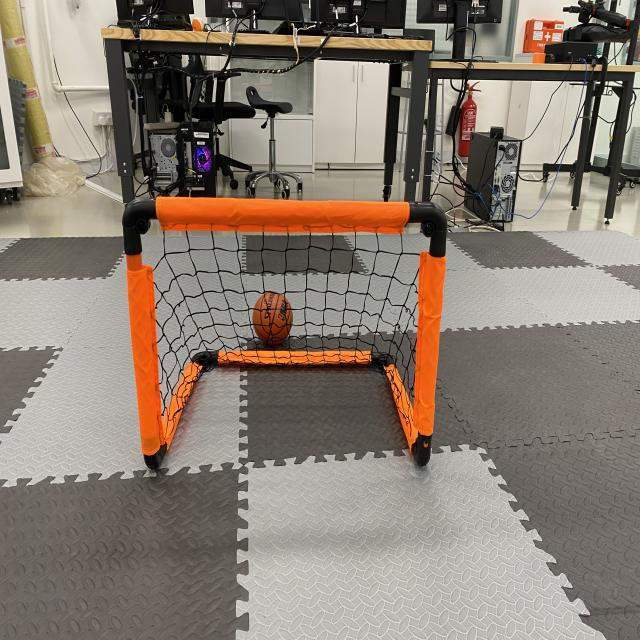ball: (248, 286, 297, 351)
gate: (116, 189, 453, 483)
